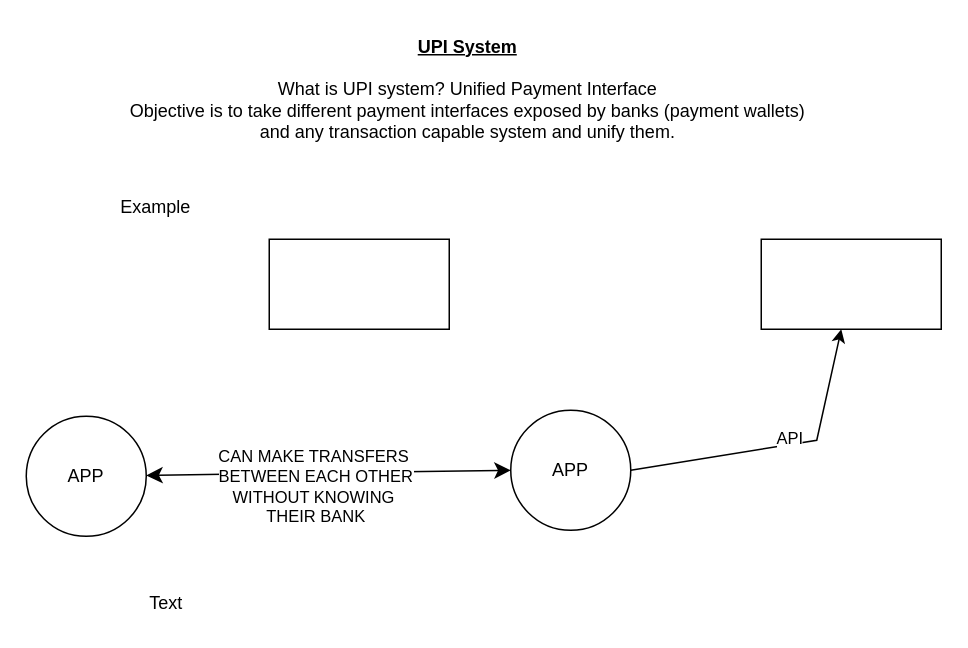
This 968x648 diagram has some shape labels left out. Here are the shapes that lost their labels. From the top down, the box of each, then its label:
(268, 238, 449, 329): HDFC Bank
(760, 238, 941, 329): CHASE BANK
